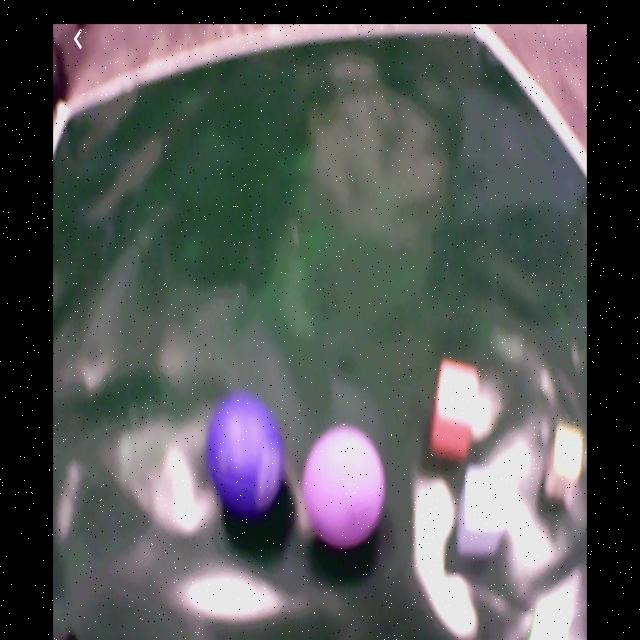ball: (304, 424, 387, 548), (209, 395, 286, 515)
